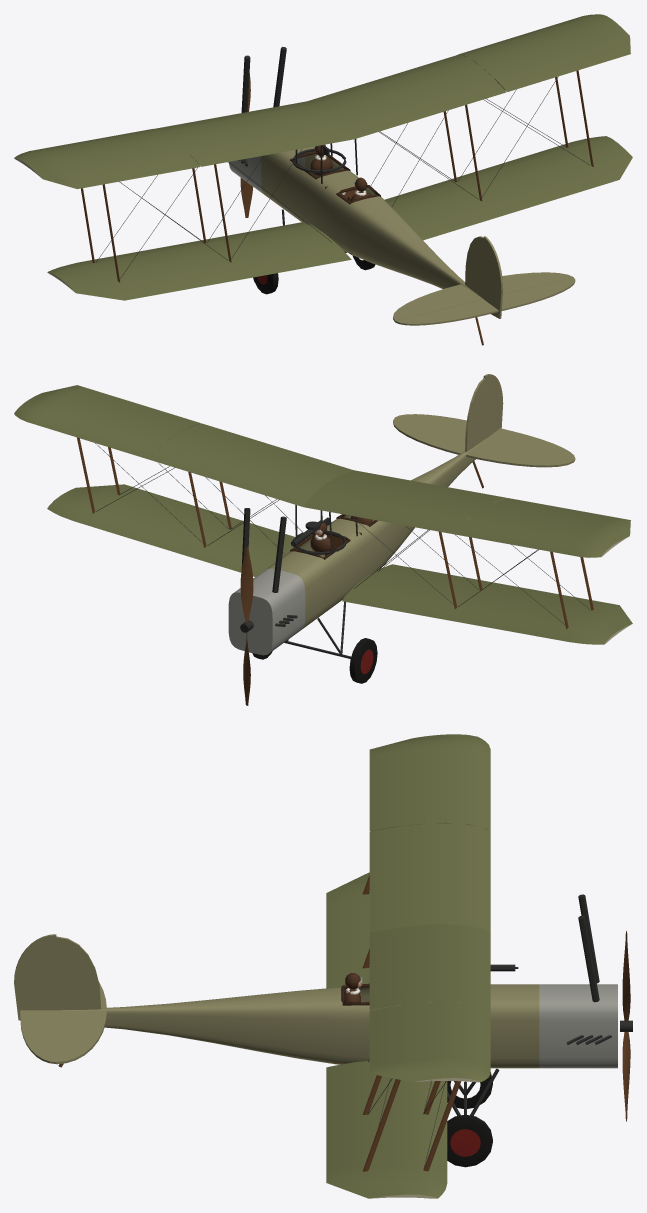
3 views of the same model, one above another, from view 1: azimuth 30°, elevation 25°; view 2: azimuth 150°, elevation 25°; view 3: azimuth 270°, elevation 25° (orthographic). The views are drawn at different scales.
Visible parts, largest first — view 1: Wing_Upper_R, Wing_Lower_L, Wing_Upper_L, Fuselage, Wing_Lower_R, Aileron_R, Aileron_L, Elevator, Struts, Wires, Stabilizer_L, Rudder (+5 smaller); view 2: Wing_Upper_R, Wing_Upper_L, Wing_Lower_L, Fuselage, Wing_Lower_R, Struts, Elevator, Stabilizer_L, Stabilizer_R, Aileron_R, Wires, PropBlades (+6 smaller); view 3: Fuselage, Wing_Upper_L, Wing_Upper_R, Wing_Lower_R, Wing_Lower_L, Rudder, Aileron_L, Fin, Wheels, Aileron_R, Stabilizer_R, Struts (+3 smaller).
Part boxes in pixels (box(x1,y1,x2,y2)): Wing_Upper_R: box(307, 14, 622, 139); Wing_Lower_L: box(47, 222, 351, 300); Wing_Upper_L: box(14, 101, 353, 174); Fuselage: box(229, 146, 482, 298); Wing_Lower_R: box(384, 136, 632, 240); Aileron_R: box(494, 28, 630, 91); Aileron_L: box(35, 152, 200, 189); Elevator: box(395, 277, 575, 325); Struts: box(81, 70, 593, 282); Wires: box(96, 76, 590, 278); Stabilizer_L: box(393, 284, 482, 321); Rudder: box(483, 236, 503, 318); Wing_Upper_R: box(14, 390, 353, 506); Wing_Upper_L: box(304, 470, 622, 557); Wing_Lower_L: box(342, 564, 632, 644); Fuselage: box(228, 440, 483, 655); Wing_Lower_R: box(47, 484, 294, 576); Struts: box(77, 437, 593, 628); Elevator: box(396, 414, 575, 461); Stabilizer_L: box(466, 439, 573, 467); Stabilizer_R: box(393, 417, 465, 454); Aileron_R: box(36, 385, 200, 427); Wires: box(95, 443, 590, 624); PropBlades: box(240, 547, 253, 705); Fuselage: box(62, 984, 617, 1068); Wing_Upper_L: box(369, 734, 490, 932); Wing_Upper_R: box(369, 924, 490, 1082); Wing_Lower_R: box(326, 1060, 447, 1198); Wing_Lower_L: box(326, 872, 369, 988); Rudder: box(14, 934, 56, 1020); Aileron_L: box(369, 736, 428, 831); Fin: box(56, 936, 100, 1010); Wheels: box(447, 1072, 492, 1167); Aileron_R: box(369, 1005, 429, 1082); Stabilizer_R: box(56, 1010, 106, 1064); Struts: box(362, 875, 460, 1171).
Size of the model in its own units: 11.28 by 3.58 by 8.58.
